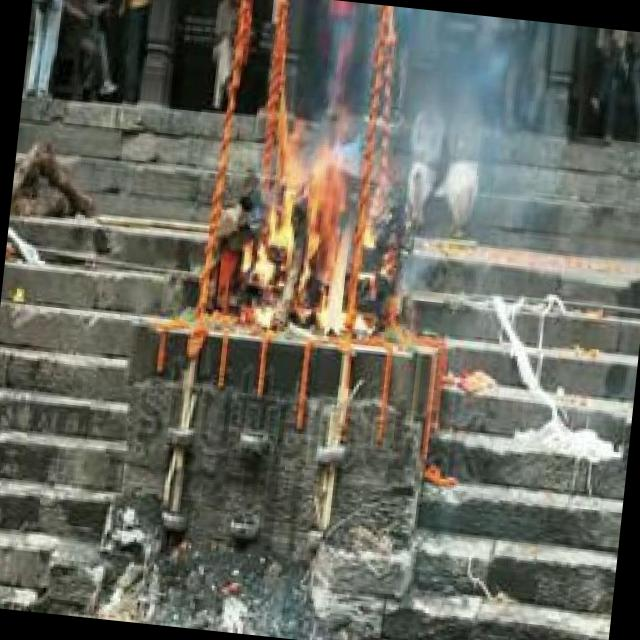Fire: (254, 98, 370, 342)
